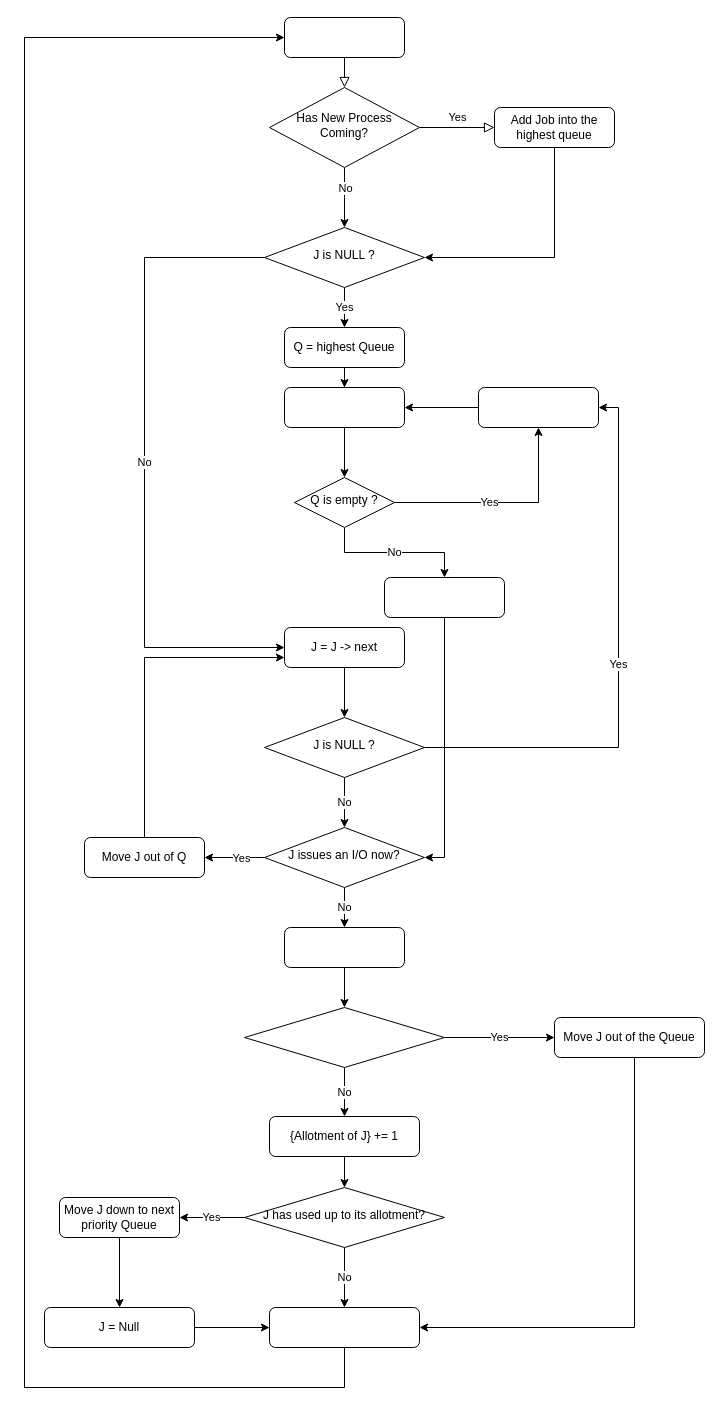
Image size: 722x1413. Some labels were removed from this diagram. The centre of each missing label's shape, as x and y in pixels:
"Get Q's header" goes at point (344, 407).
"J = Q's header Job" goes at point (444, 597).
"J complete?" goes at point (344, 1037).
"Q = Queue of next priority" goes at point (538, 407).
"Run J" goes at point (344, 947).
"Slice begins" goes at point (344, 37).
"Time Slice += 1" goes at point (344, 1327).
